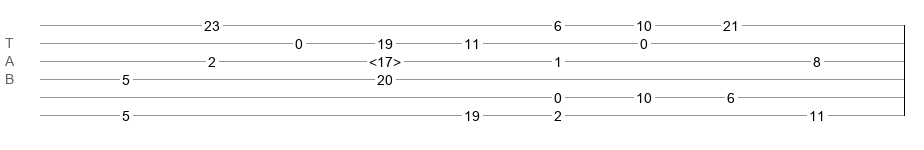0: (295, 36, 303, 46), (554, 90, 562, 100), (640, 36, 648, 46)
1: (554, 54, 562, 64)
10: (636, 18, 652, 28), (636, 90, 652, 100)
11: (464, 36, 480, 46), (809, 108, 825, 118)
19: (377, 36, 393, 46), (464, 108, 480, 118)
2: (208, 54, 216, 64), (554, 108, 562, 118)
20: (377, 72, 393, 82)
21: (723, 18, 739, 28)
23: (204, 18, 220, 28)
5: (122, 108, 130, 118), (122, 72, 130, 82)
6: (554, 18, 562, 28), (727, 90, 735, 100)
8: (813, 54, 821, 64)
harmonic: (369, 54, 401, 64)
